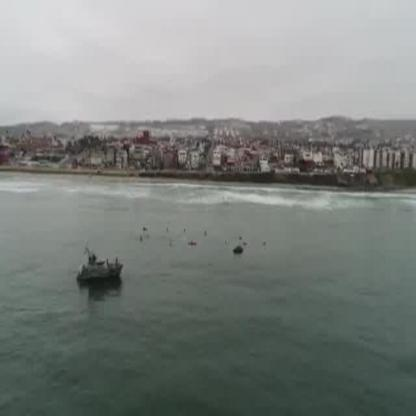Boat: (78, 244, 126, 290)
